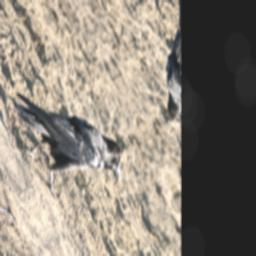Crow: (0, 54, 134, 221)
